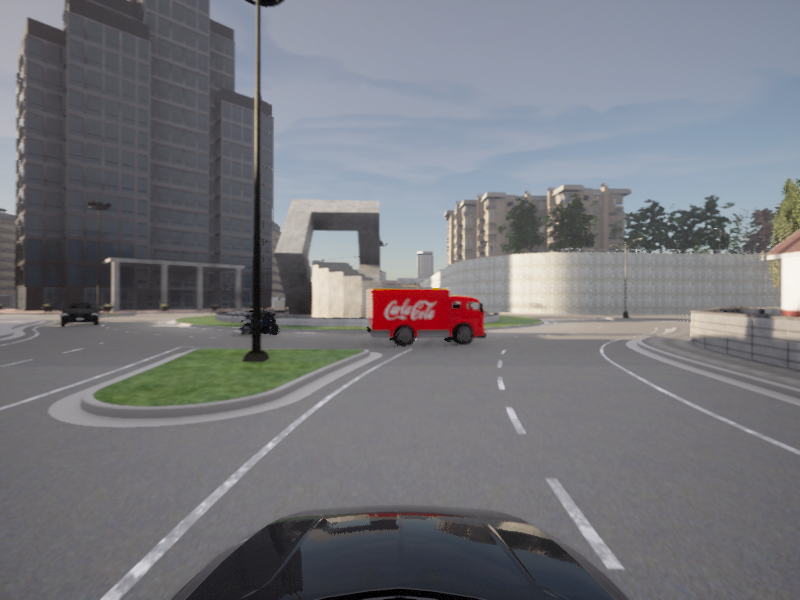vehicle: (365, 288, 491, 348), (236, 307, 282, 337), (59, 302, 99, 327)
